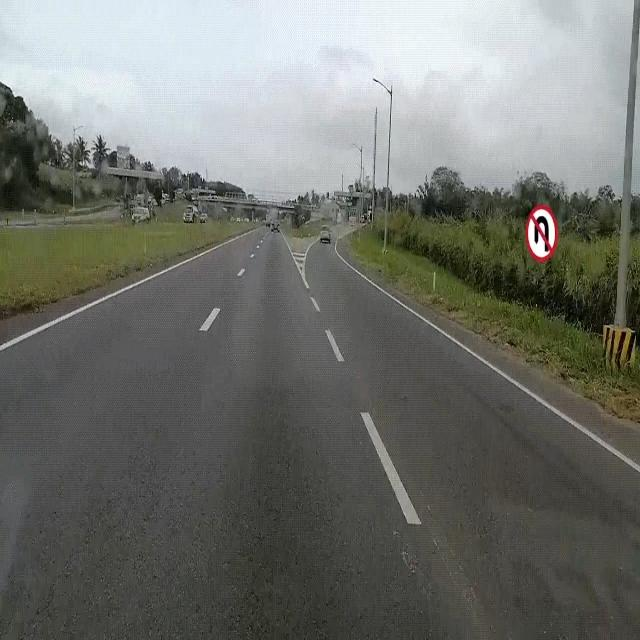Demi-Tour-Interdit: (523, 199, 561, 267)
